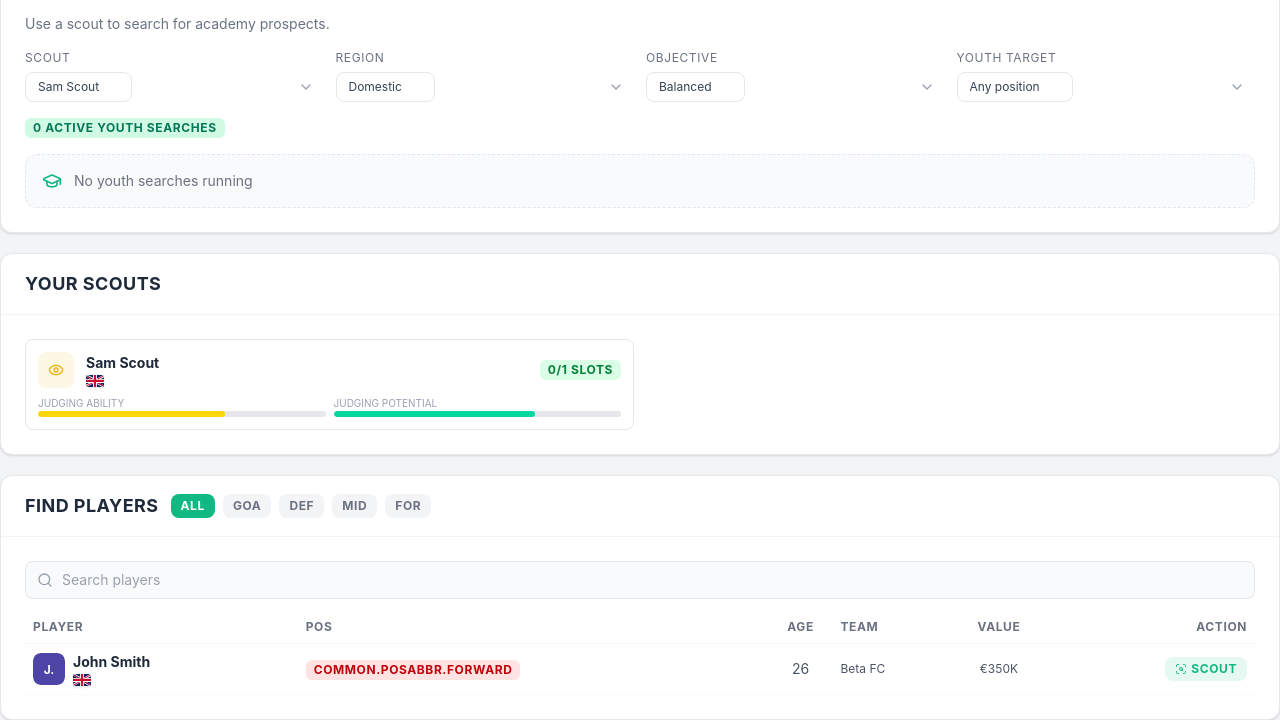
Test case: ScoutingTab › shows scout assignment errors inline in the player search card
The image size is (1280, 720).
(page scrolled)
Step 1. Click the button "Scout" → (1206, 669), box 1165,657 -> 1247,681
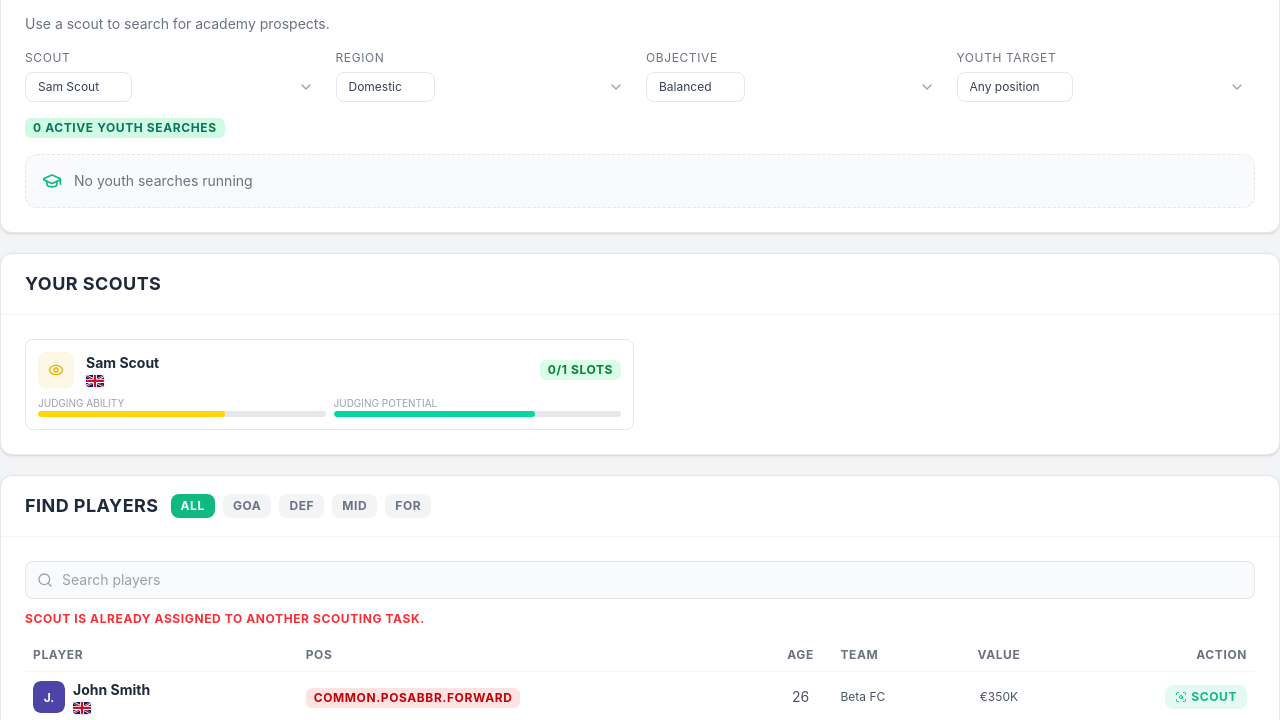
Expected: the message reads "Scout is already assigned to another scouting task.", 25,611 -> 425,626
